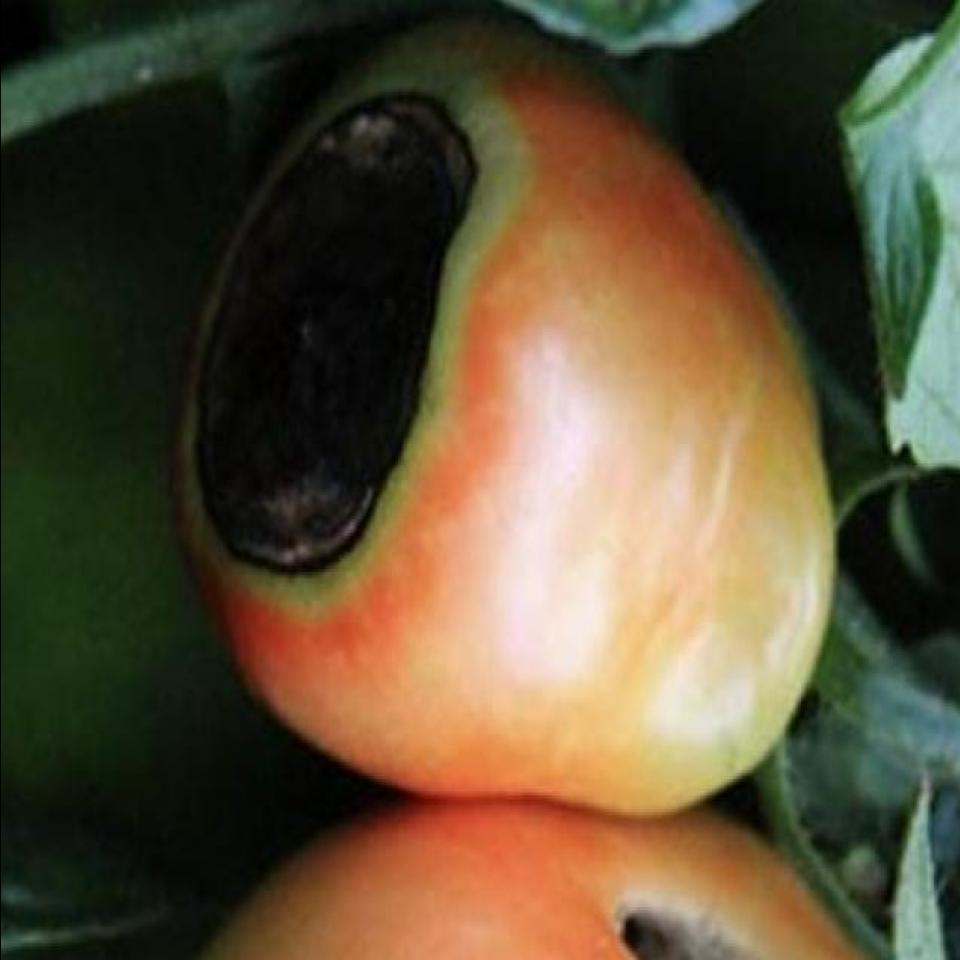Blossom_end_rot: (190, 70, 492, 592), (618, 884, 770, 960)
